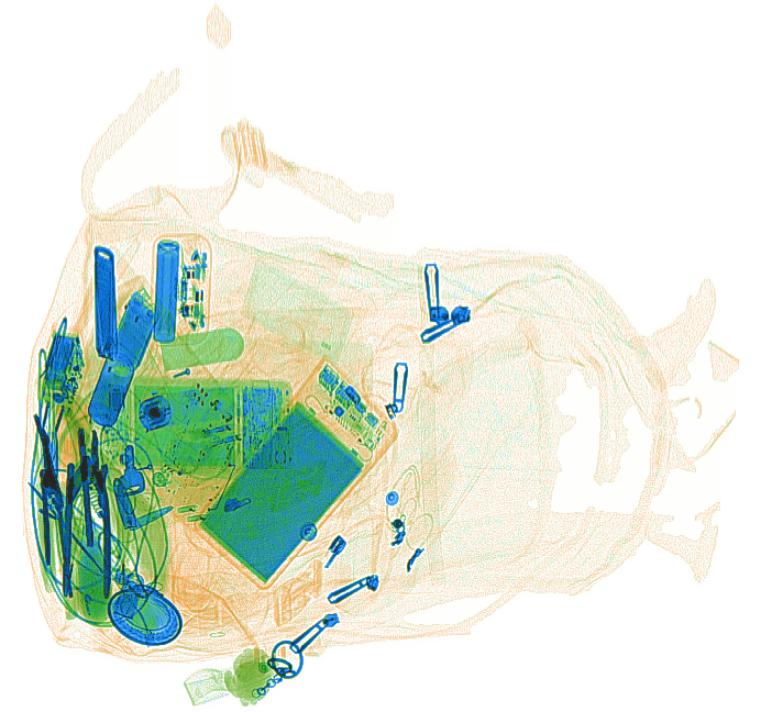battery: (103, 292, 160, 373), (84, 351, 137, 427), (151, 240, 181, 344)
